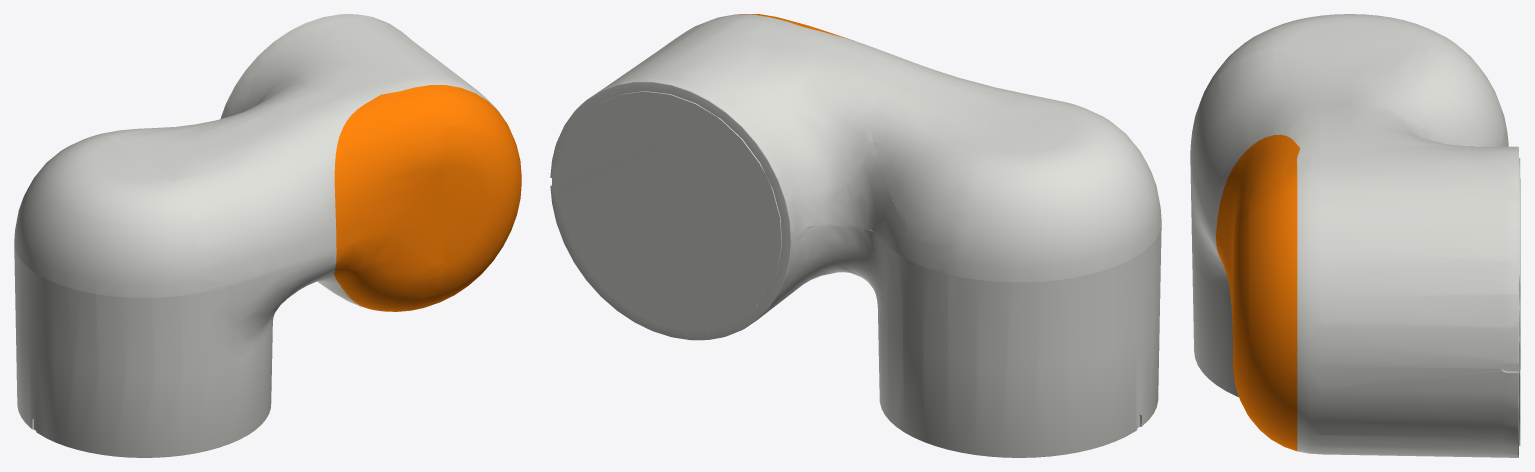
3 views of the same model, side by side, from view 1: azimuth 30°, elevation 25°; view 2: azimuth 150°, elevation 25°; view 3: azimuth 270°, elevation 25° (orthographic). The views are drawn at different scales.
Visible parts, largest first — view 1: null; view 2: null; view 3: null.
Part boxes in pixels (x1,y1,x2,y2): null: (14, 14, 521, 457); null: (550, 14, 1161, 457); null: (1190, 14, 1520, 457).
Bounding box in the file's own units: 0.1327 × 0.0748 × 0.0658.
